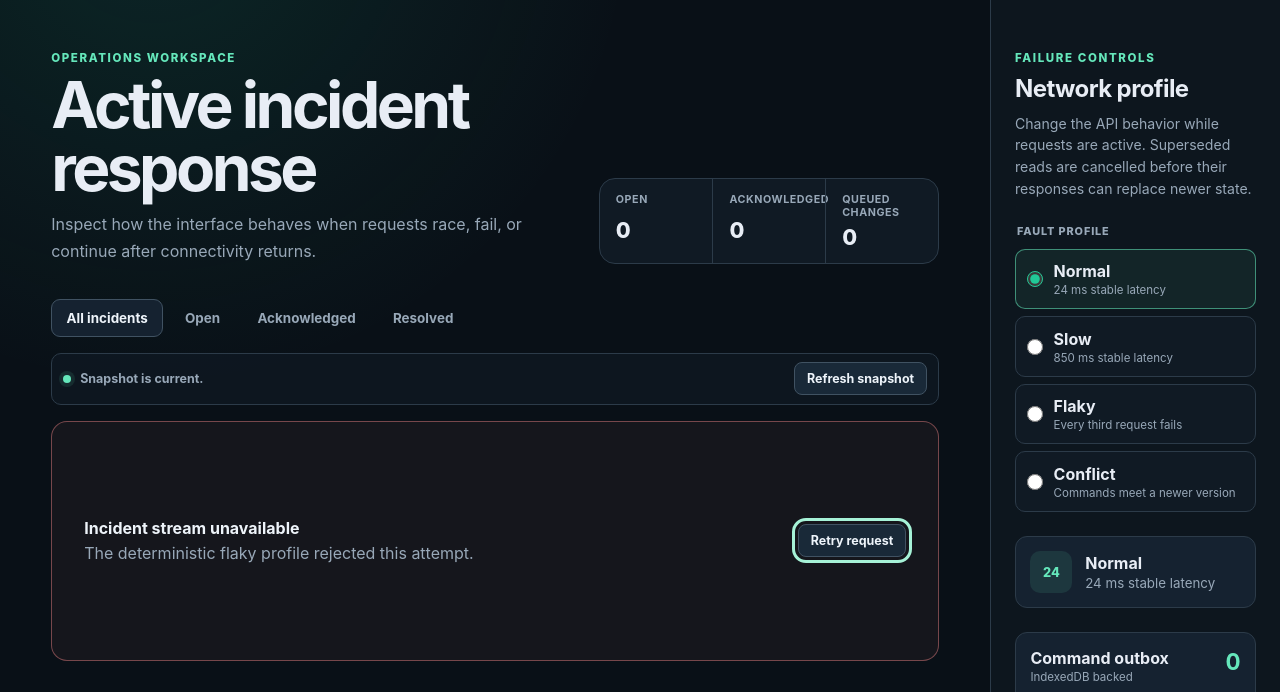
Test case: IncidentConsole › shows typed failures and recovers through an explicit retry
The width and height of the screenshot is (1280, 692).
Check: the message that starts with "Incident stream unavailable" shows "The deterministic flaky profile rejected this attempt.", box [84,543,474,563]
Click the button "Retry request".
click(852, 540)  # box [798,524,906,557]
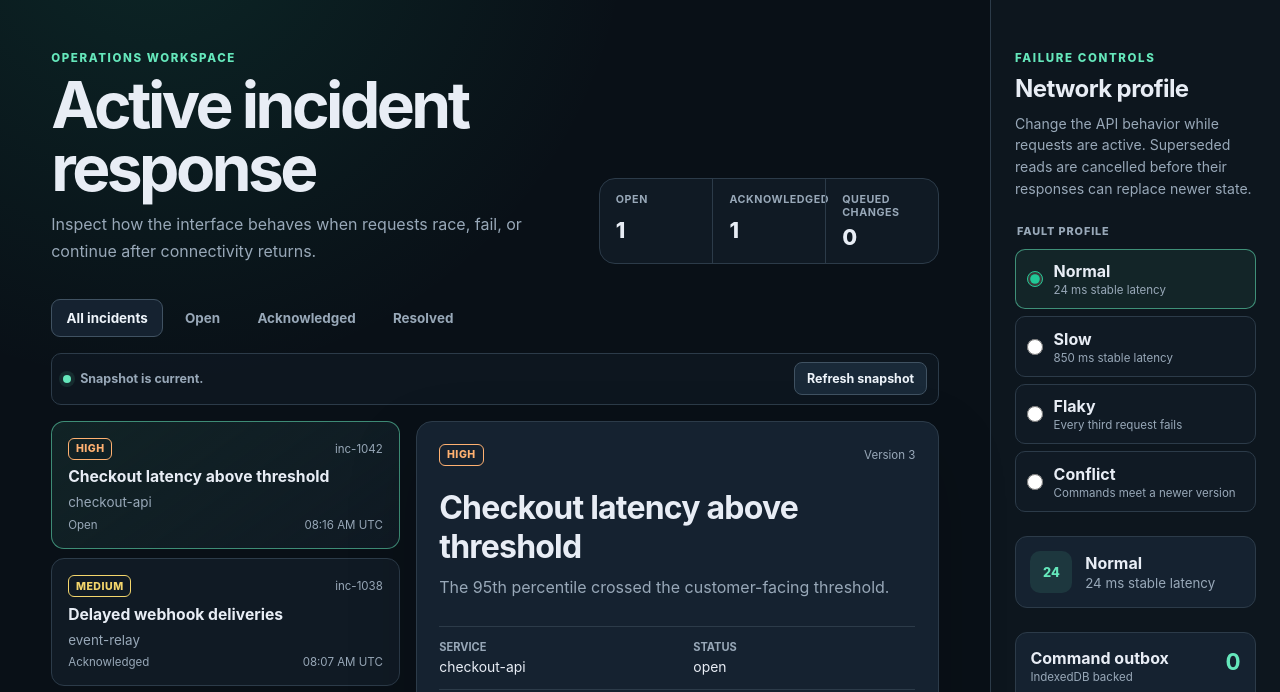
Check: the button "Checkout latency above threshold" is shown, box [51,420,400,548]
